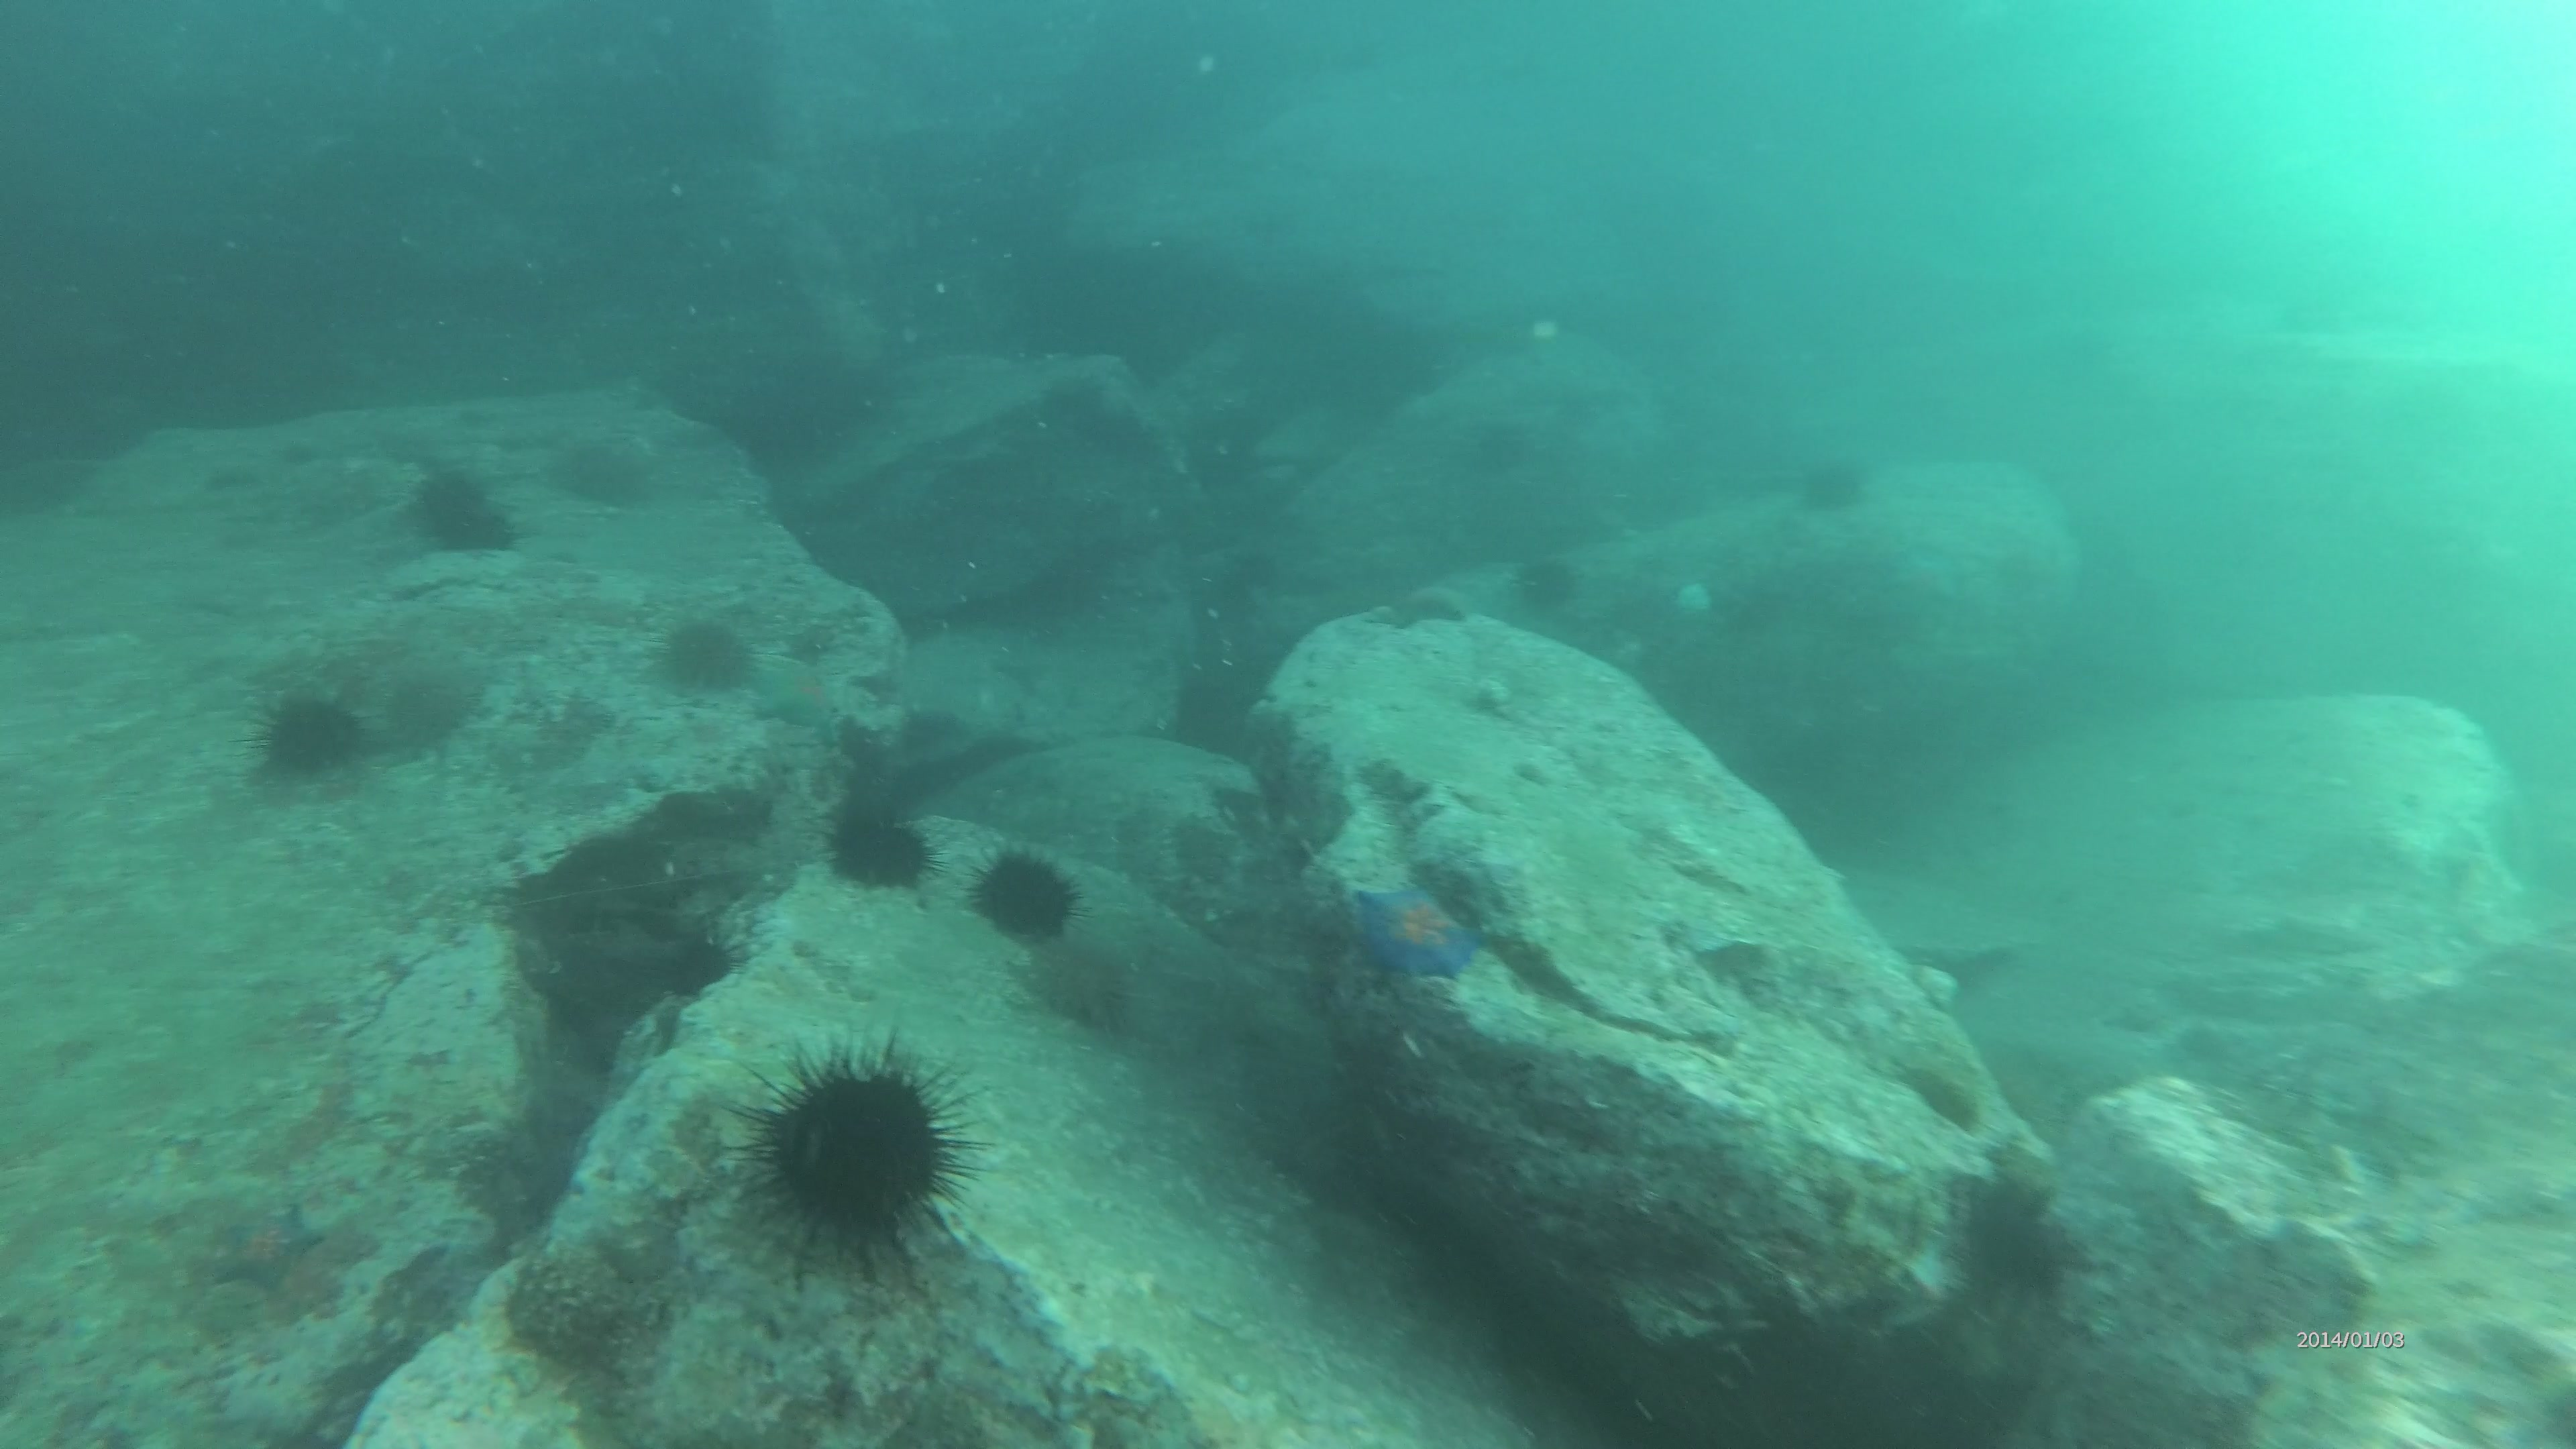echinus: (706, 1016, 991, 1277), (950, 826, 1077, 954), (239, 685, 366, 784), (824, 800, 947, 899), (405, 472, 533, 561), (655, 605, 755, 702)
starfish: (1348, 874, 1483, 982)
